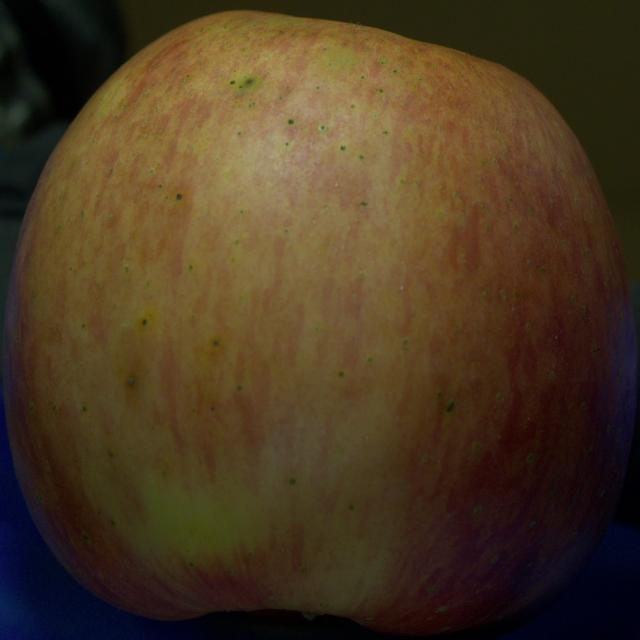apple: (2, 11, 636, 635)
pest: (240, 78, 254, 88), (446, 400, 454, 412), (128, 376, 134, 385)
